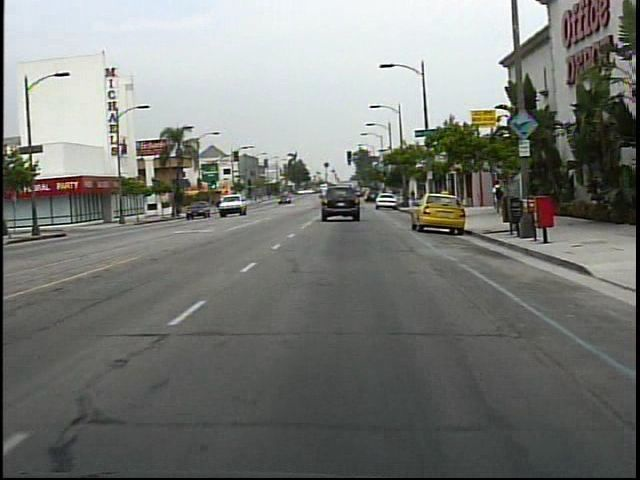person: (485, 177, 509, 221)
